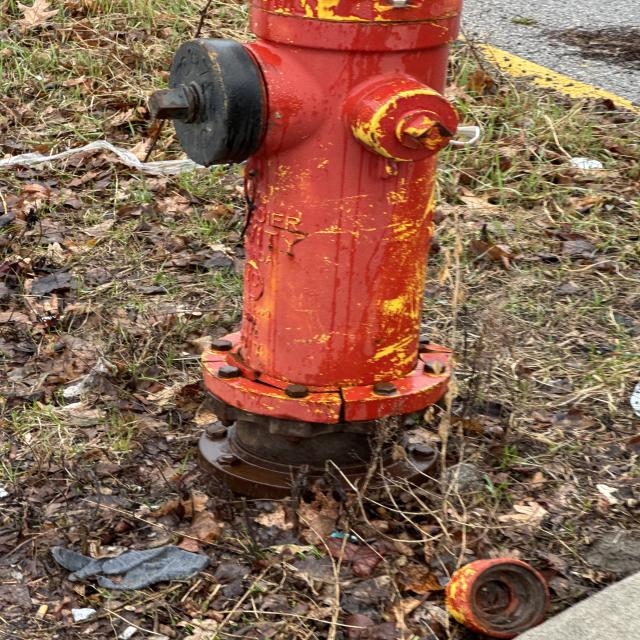Fire hydrant: (141, 0, 467, 426)
